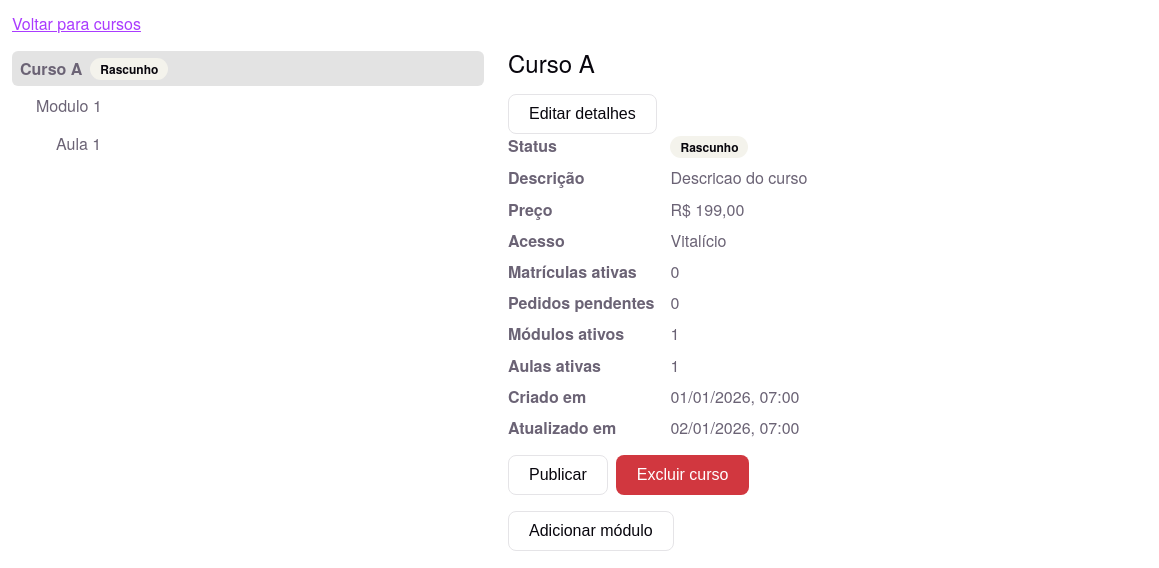
Test: AdminCourseDetailPage › shows the selected lesson and its video in the panel
Click the list item "Aula 1". click: (79, 143)
box: [56,132,101,155]
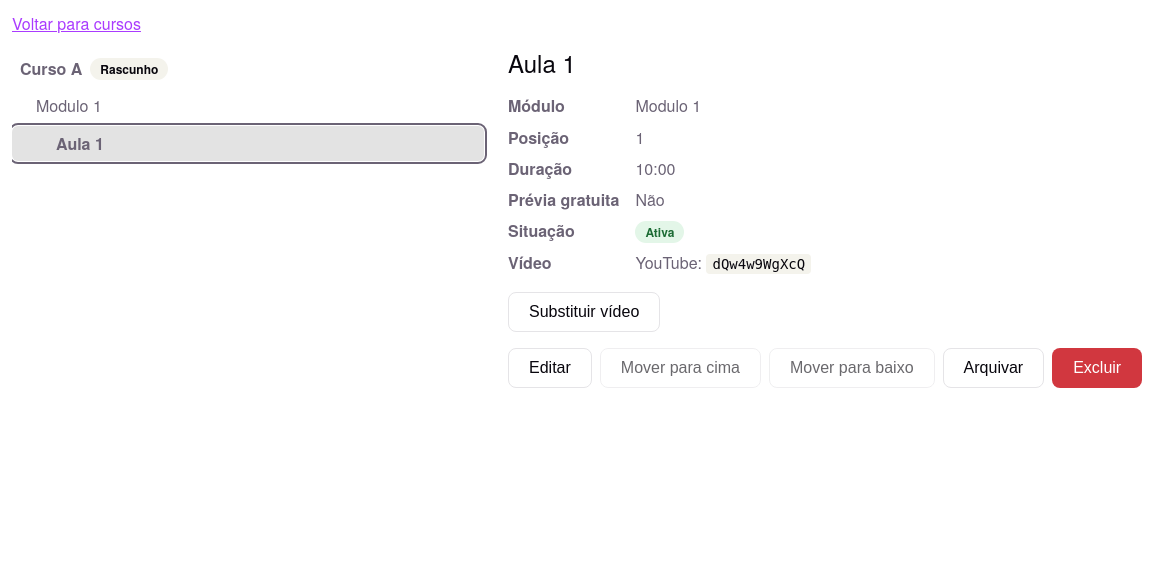
Expected: the heading "Aula 1" is shown, [508,45,576,80]
Expected: the element named "Detalhes do item selecionado" shows "dQw4w9WgXcQ", [712,256,805,272]
